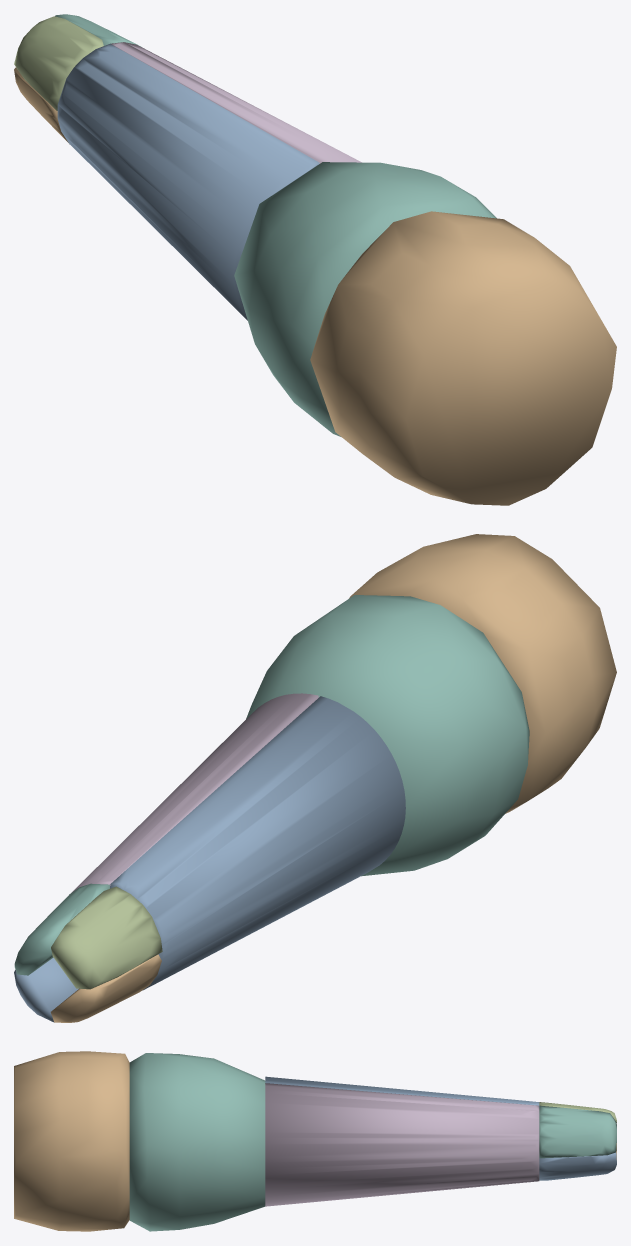
3 renders of one model, top to bottom at view 1: azimuth 30°, elevation 25°; view 2: azimuth 150°, elevation 25°; view 3: azimuth 270°, elevation 25°, orthographic. The views are drawn at different scales.
Bounding box in the file's own units: 0.5811 × 0.5791 × 1.94.
